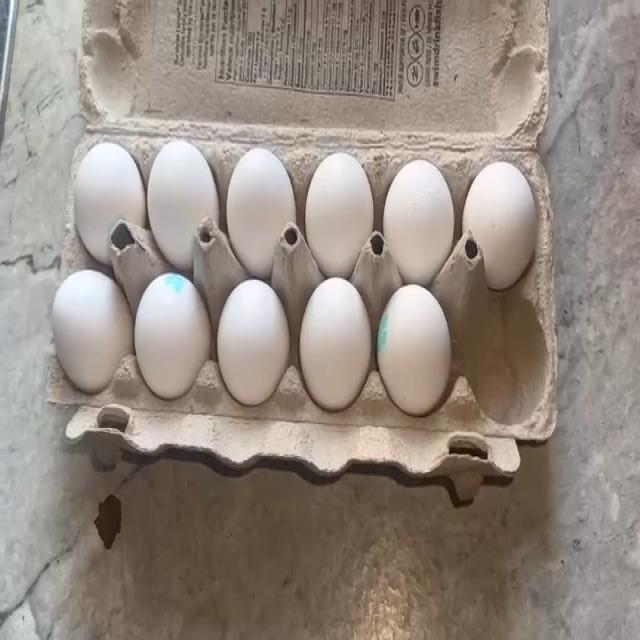Egg: (138, 278, 212, 394), (63, 133, 141, 230), (57, 278, 123, 388), (234, 147, 299, 255), (225, 289, 288, 397), (306, 283, 366, 392), (316, 162, 374, 254), (384, 304, 442, 394), (403, 171, 453, 266), (156, 134, 208, 225), (481, 178, 532, 250)
